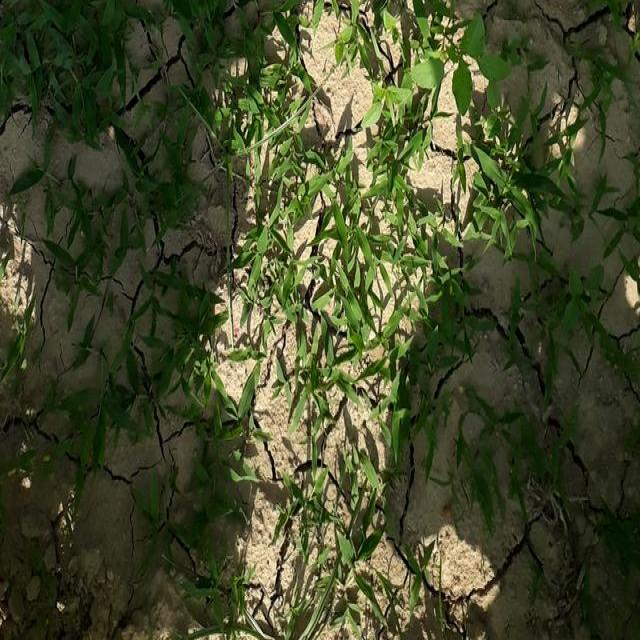weed: (208, 0, 438, 508), (462, 51, 640, 640), (0, 0, 203, 254)
